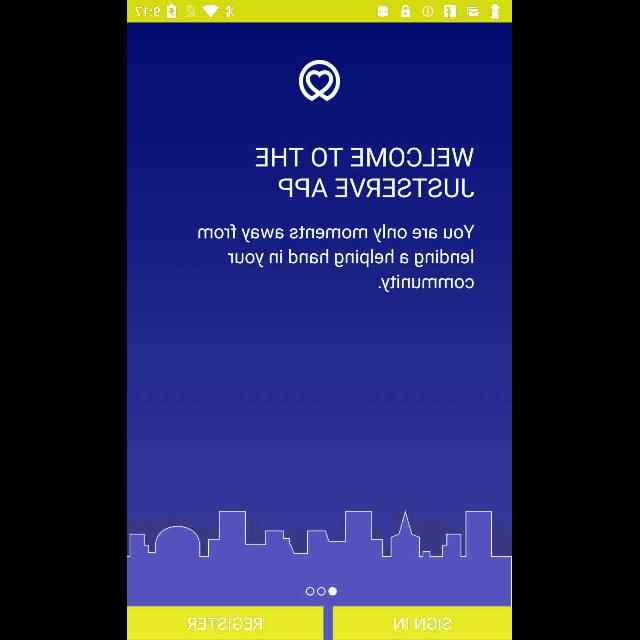backgroundimage: (128, 22, 512, 640)
image: (299, 60, 341, 102)
pageindicator: (306, 586, 338, 596)
text: (198, 224, 476, 292), (256, 148, 476, 198)
textbutton: (128, 606, 324, 640), (333, 606, 512, 640)
uppertaskbar: (128, 1, 512, 23)
